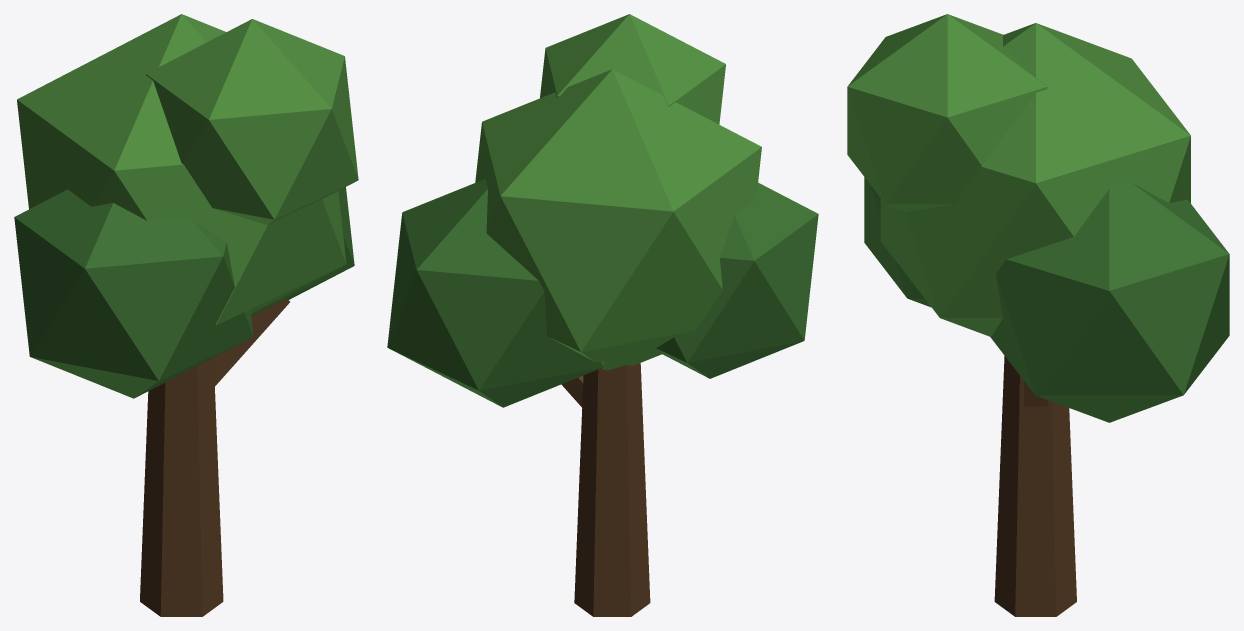
The model's file is oak_lo.glb.
3 renders of one model, left to right at view 1: azimuth 30°, elevation 25°; view 2: azimuth 150°, elevation 25°; view 3: azimuth 270°, elevation 25°, orthographic. The views are drawn at different scales.
Parts seen in each view (by area): view 1: tree; view 2: tree; view 3: tree.
Part boxes in pixels (box(x1,y1,x2,y2)): tree: box(14, 14, 358, 616); tree: box(387, 14, 818, 616); tree: box(847, 14, 1229, 616).
Size of the model in its own units: 1.45 by 2.25 by 1.3.
